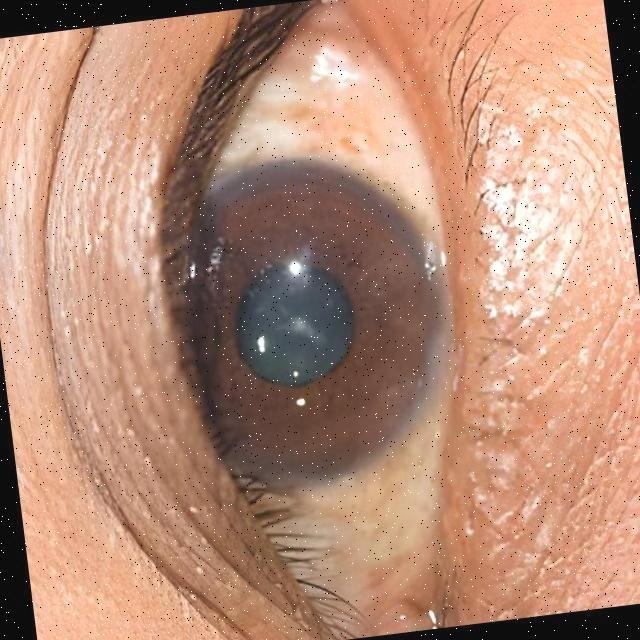Cataract: (186, 143, 468, 454)
